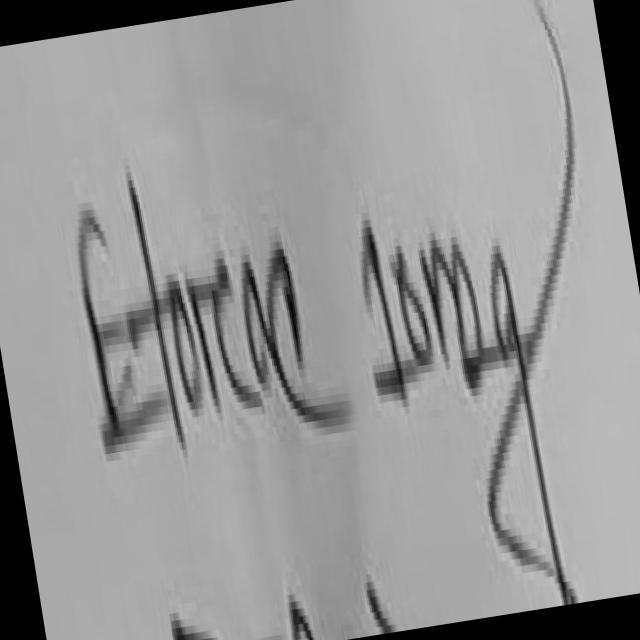0: (397, 246, 432, 366)
1: (366, 220, 420, 397)
E: (80, 211, 167, 449)
a: (238, 263, 280, 384)
c: (267, 249, 349, 420)
g: (486, 0, 576, 600)
m: (421, 240, 486, 375)
o: (169, 281, 199, 405)
r: (187, 258, 256, 413)
t: (129, 181, 186, 445)
